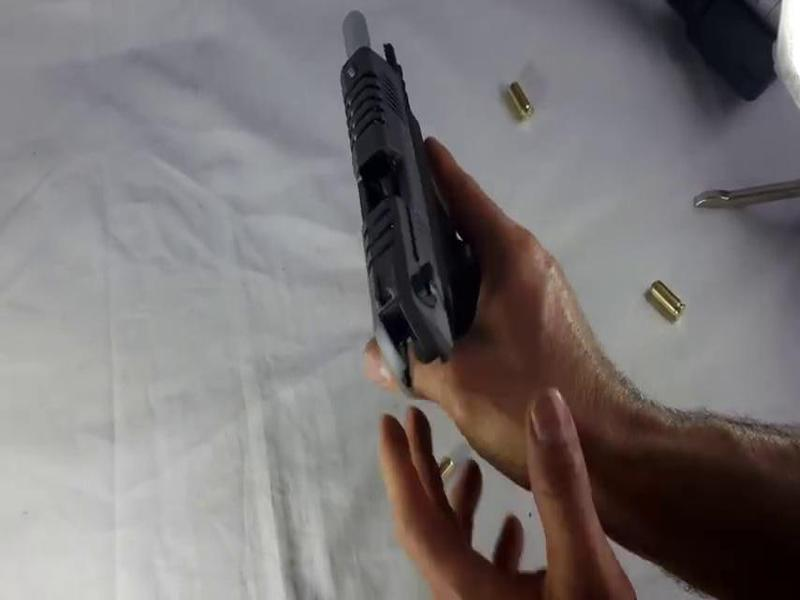Pistola: (283, 1, 490, 377)
